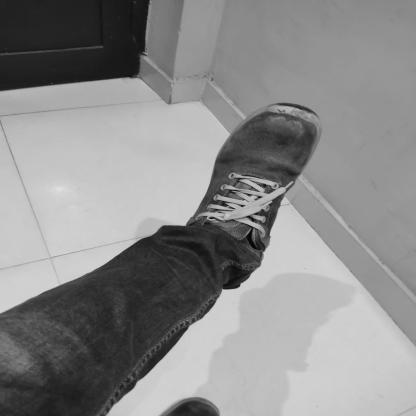ankle: (241, 235, 247, 238)
heel: (255, 261, 259, 266)
left_foot: (202, 104, 323, 273)
pinky: (243, 128, 250, 133)
toe: (307, 129, 314, 135)
